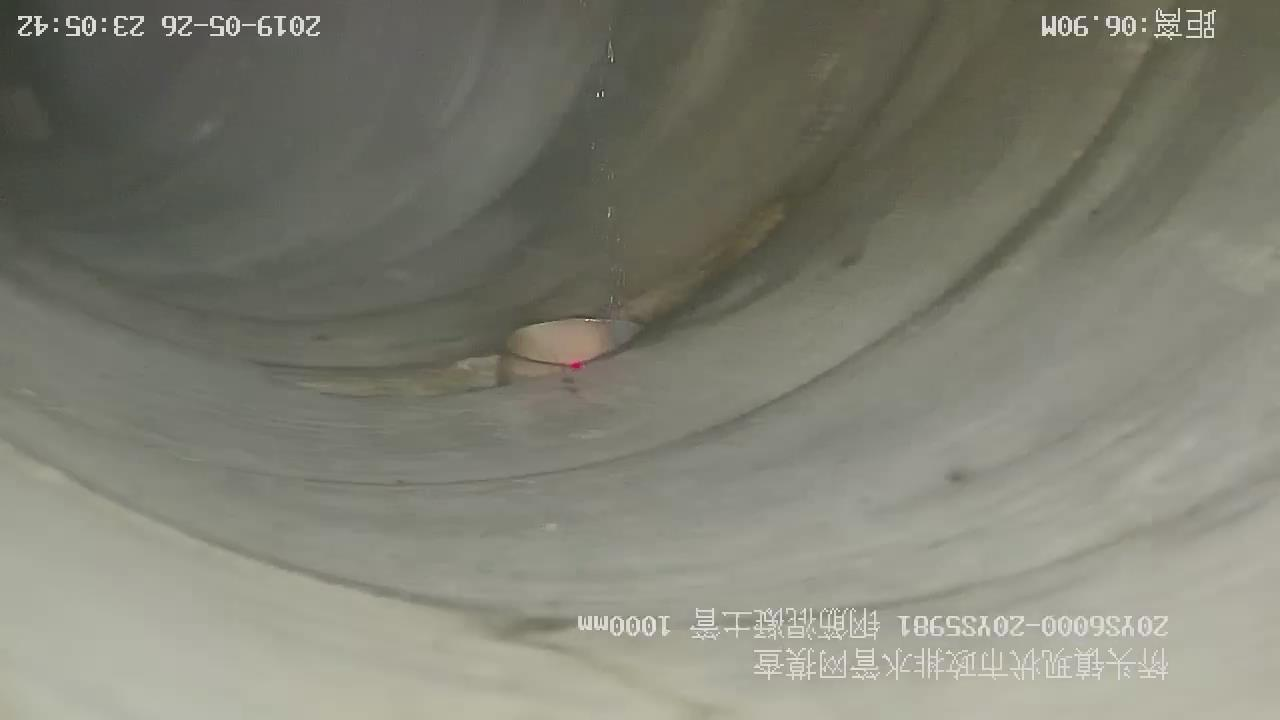ZGAJ: (498, 317, 620, 384)
